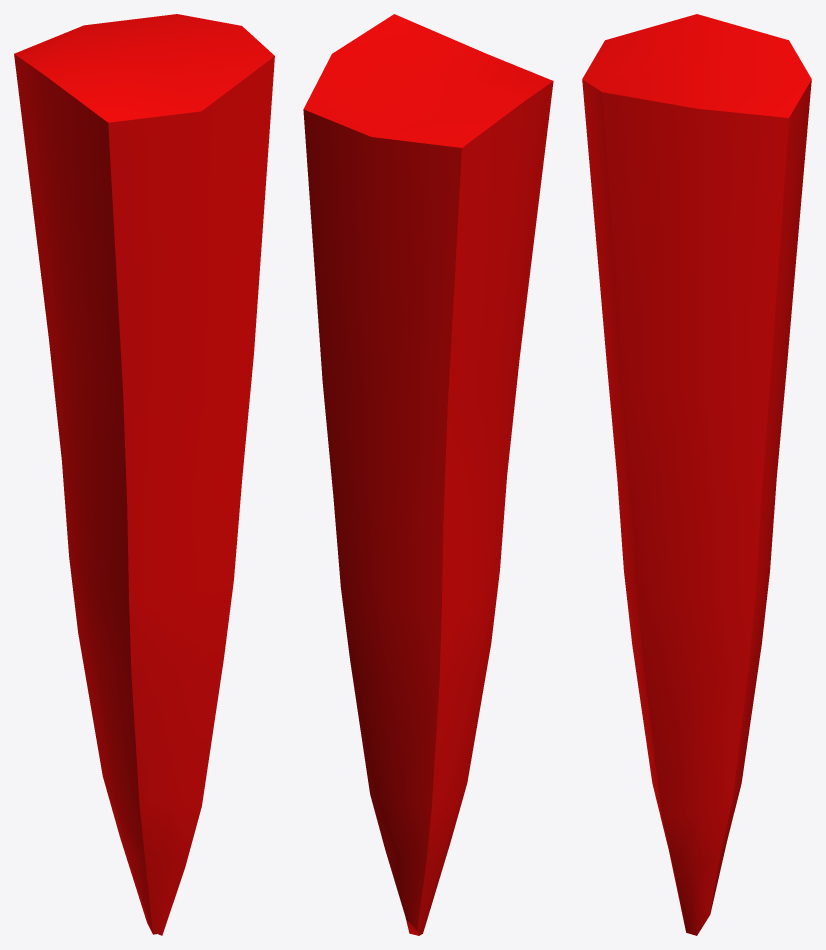
File: Stalactite1.obj
3 renders of one model, left to right at view 1: azimuth 30°, elevation 25°; view 2: azimuth 150°, elevation 25°; view 3: azimuth 270°, elevation 25°, orthographic. The views are drawn at different scales.
Parts seen in each view (by area): view 1: pCube1; view 2: pCube1; view 3: pCube1.
Boxes of the visible parts, x1=… form: pCube1: x1=14, y1=14, x2=274, y2=935; pCube1: x1=303, y1=14, x2=553, y2=935; pCube1: x1=582, y1=14, x2=811, y2=935.
Bounding box in the file's own units: 0.7294 × 3.14 × 0.7478.
